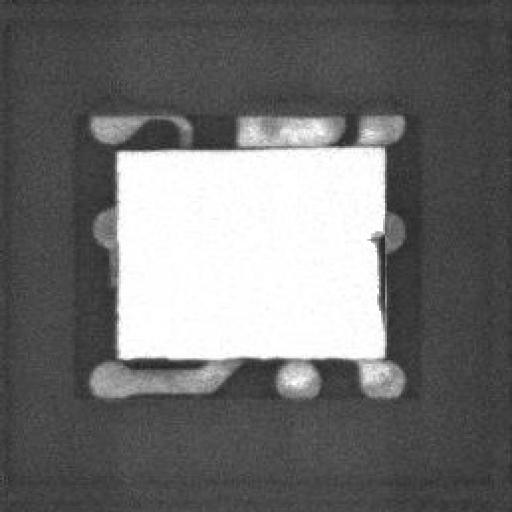DIE_BROKEN: (365, 226, 387, 322)
